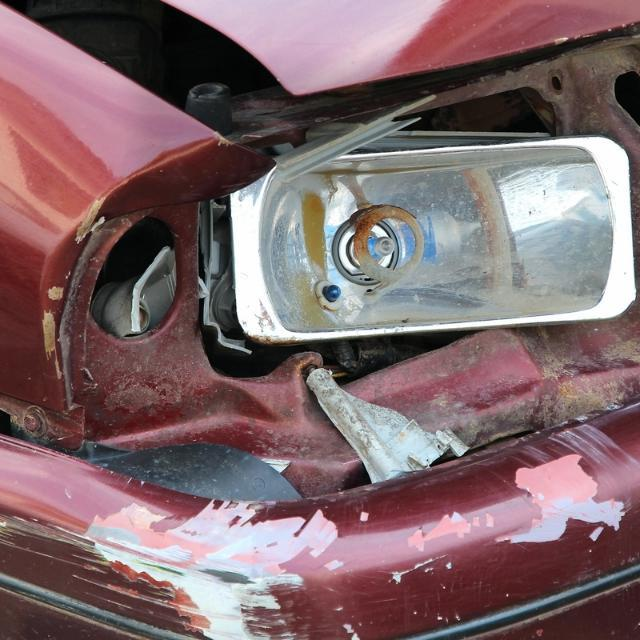Bonnet: (410, 0, 640, 65)
Bumper: (75, 467, 640, 640)
Light: (92, 117, 603, 451)
